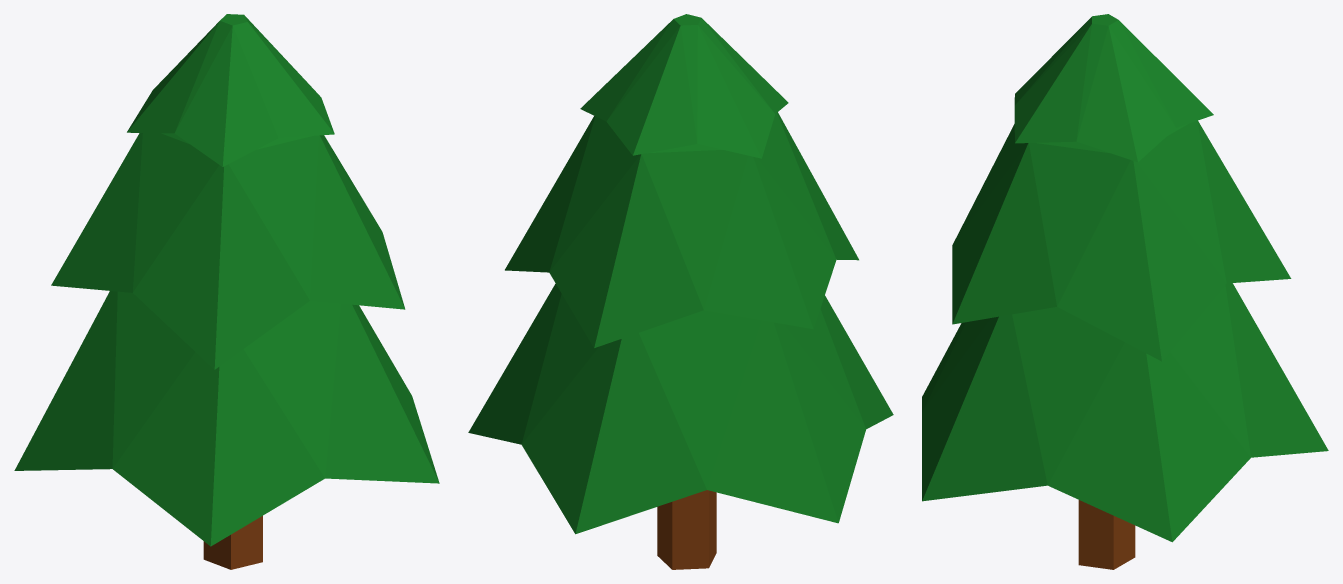
File: tree.fbx
3 renders of one model, left to right at view 1: azimuth 30°, elevation 25°; view 2: azimuth 150°, elevation 25°; view 3: azimuth 270°, elevation 25°, orthographic.
Parts seen in each view (by area): view 1: arbol; view 2: arbol; view 3: arbol.
Part boxes in pixels (x1,y1,x2,y2): arbol: [14, 14, 439, 569]; arbol: [468, 14, 893, 569]; arbol: [922, 14, 1328, 569].
Size of the model in its own units: 547 by 758 by 520.
